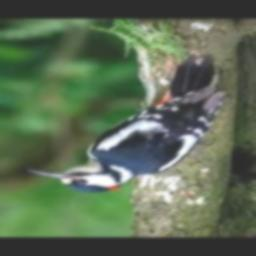Woodpecker: (28, 53, 226, 193)
